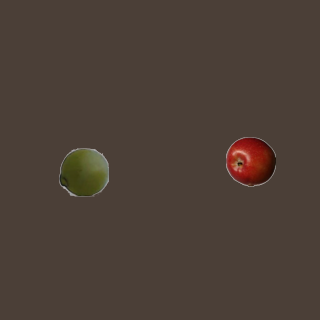Apple Braeburn: (225, 136, 275, 186)
Grape White 4: (58, 146, 108, 196)
